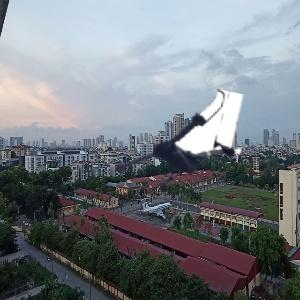drone: (100, 81, 243, 224)
